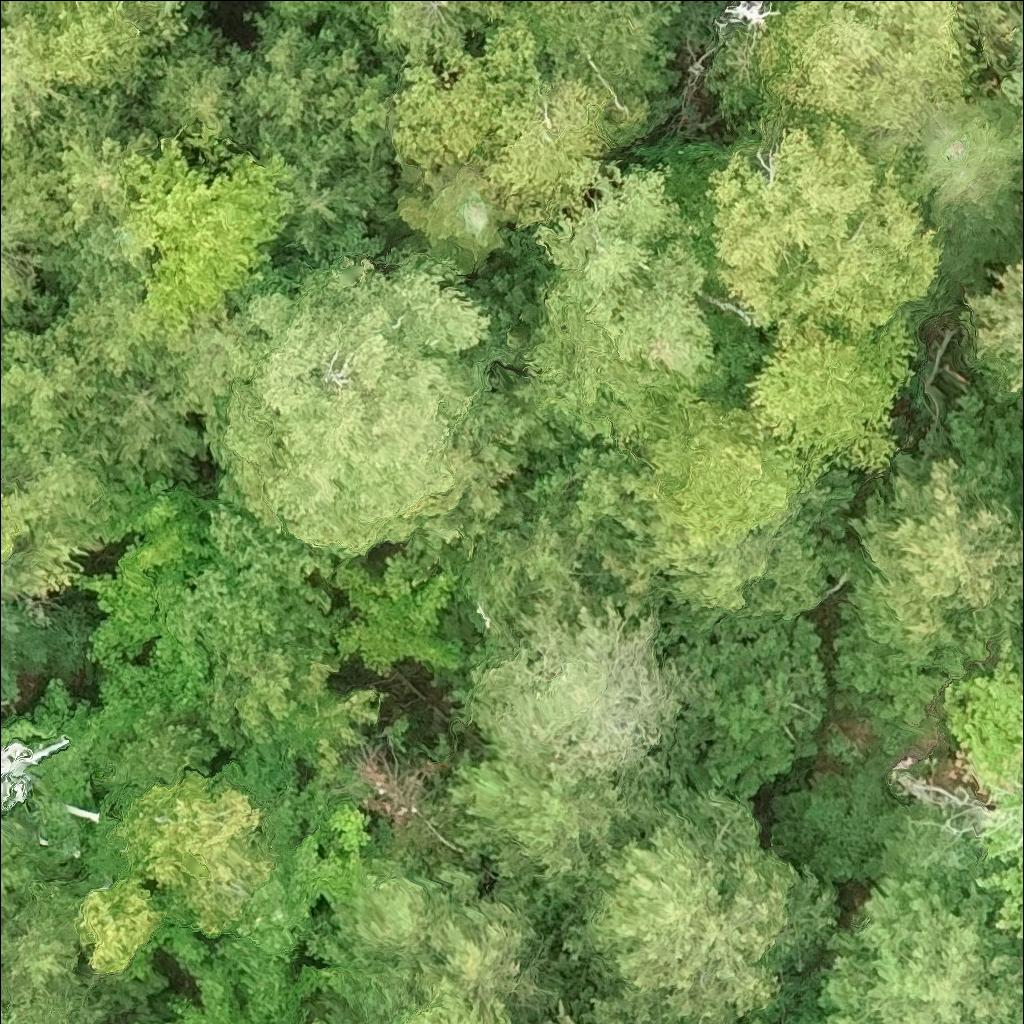crown: (149, 251, 532, 553), (556, 787, 849, 1023), (525, 150, 720, 440), (704, 115, 951, 331), (464, 591, 705, 810), (391, 3, 619, 196), (555, 463, 805, 630), (114, 123, 297, 342), (209, 795, 382, 1023), (440, 745, 671, 912), (156, 490, 367, 669), (80, 760, 281, 938), (851, 456, 1023, 647), (814, 869, 1023, 1023), (749, 0, 980, 136), (749, 309, 922, 477), (630, 389, 815, 542), (78, 472, 210, 669), (323, 844, 485, 1004), (942, 634, 1023, 937), (901, 94, 1023, 286), (432, 875, 582, 1021), (480, 496, 617, 647), (215, 11, 363, 147), (0, 0, 191, 102), (27, 90, 154, 243), (330, 540, 470, 674), (0, 428, 128, 552), (503, 0, 681, 89), (74, 372, 212, 486), (393, 161, 521, 283), (279, 128, 395, 259), (0, 873, 97, 1011), (0, 129, 66, 330), (0, 322, 98, 455), (120, 22, 233, 133), (73, 877, 187, 975), (60, 277, 157, 383), (0, 7, 70, 145), (353, 0, 487, 67), (962, 255, 1023, 400), (151, 955, 273, 1023), (392, 973, 537, 1023), (0, 740, 69, 815), (536, 976, 628, 1023), (0, 483, 47, 568), (996, 17, 1023, 158), (960, 0, 1023, 42), (0, 997, 80, 1023), (460, 0, 504, 16), (175, 0, 189, 3)
